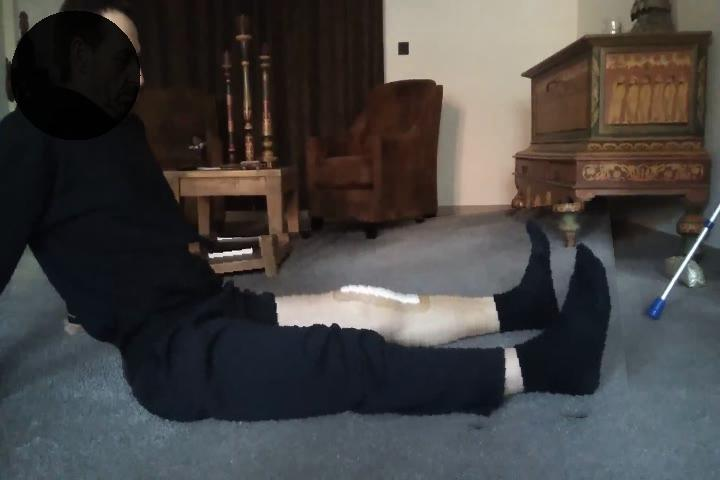lower_body: (116, 213, 627, 453)
